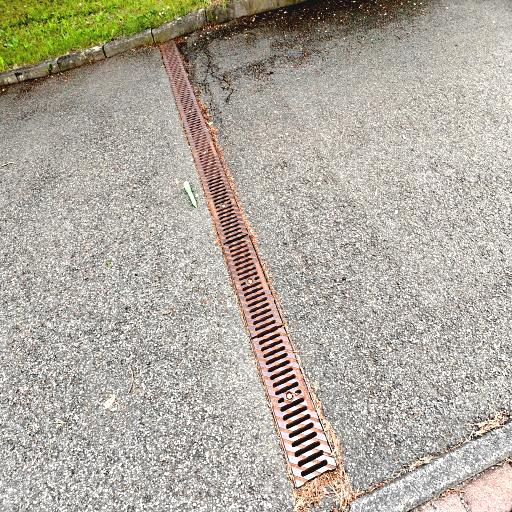Probe-Detection: (183, 181, 196, 207)
